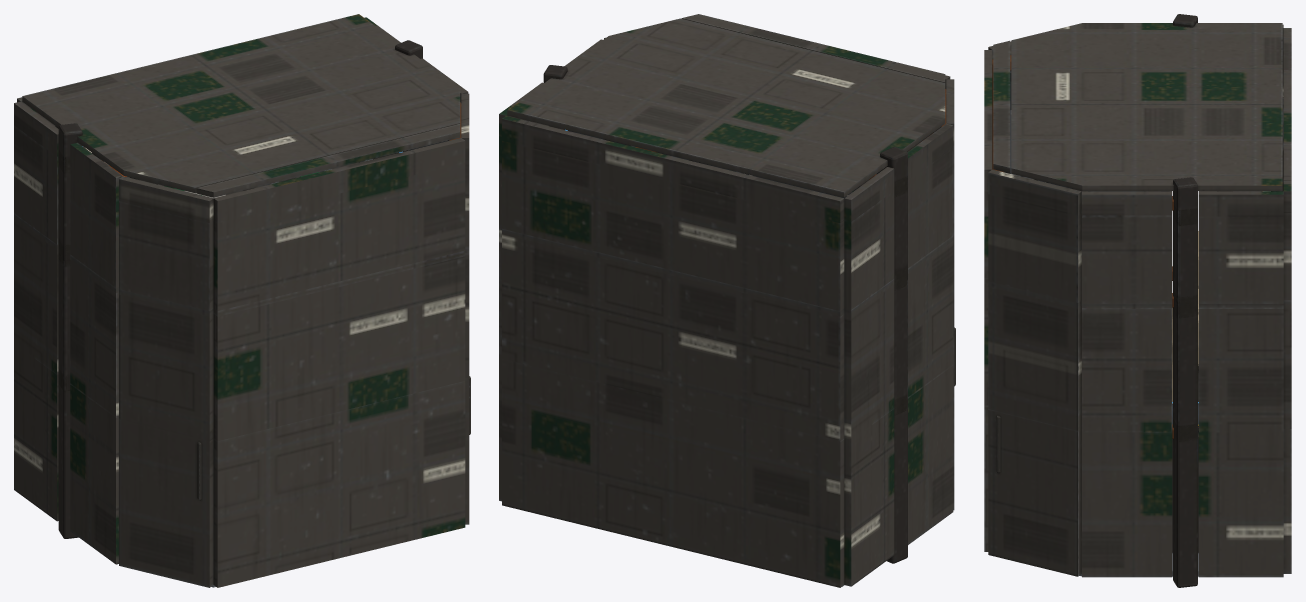
The model's file is cockpit_tilewall.gltf.
The picture shows the model from 3 angles, left to right: view 1: azimuth 30°, elevation 25°; view 2: azimuth 150°, elevation 25°; view 3: azimuth 270°, elevation 25°; orthographic projection.
Parts seen in each view (by area): view 1: INNER_petal_m_1_cabin, pod_cabin, INNER_petal_r_cabin, INNER_petal_l_cabin; view 2: pod_cabin, INNER_petal_m_1_cabin, INNER_petal_r_cabin; view 3: pod_cabin, INNER_petal_l_cabin, INNER_petal_m_1_cabin.
Part boxes in pixels (x1=…): INNER_petal_m_1_cabin: x1=196, y1=124, x2=465, y2=587; pod_cabin: x1=14, y1=14, x2=468, y2=587; INNER_petal_r_cabin: x1=119, y1=176, x2=213, y2=587; INNER_petal_l_cabin: x1=449, y1=93, x2=469, y2=524; pod_cabin: x1=499, y1=18, x2=953, y2=587; INNER_petal_m_1_cabin: x1=681, y1=14, x2=950, y2=196; INNER_petal_r_cabin: x1=941, y1=79, x2=954, y2=510; pod_cabin: x1=1011, y1=14, x2=1291, y2=587; INNER_petal_l_cabin: x1=988, y1=169, x2=1081, y2=576; INNER_petal_m_1_cabin: x1=984, y1=40, x2=1050, y2=551.
Size of the model in its own units: 2.05 by 2.22 by 1.54.
Materials: 9 (8 with a texture image).
